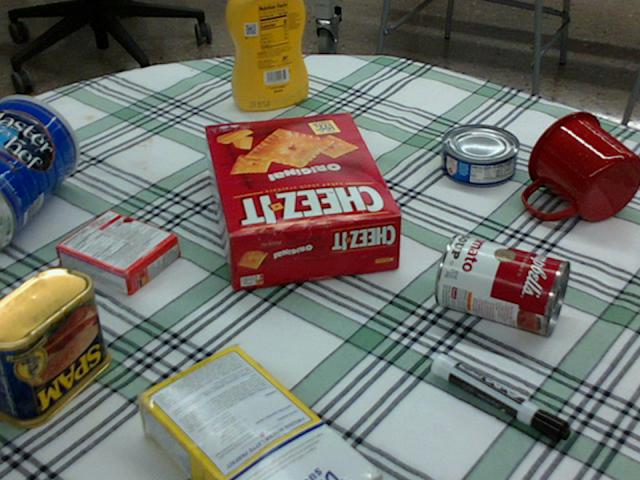cracker_box: (204, 111, 397, 287)
gelatin_box: (57, 208, 179, 296)
large_marker: (432, 353, 570, 445)
master_chef_can: (0, 95, 77, 252)
mug: (524, 111, 639, 222)
mustard_bottle: (226, 0, 307, 110)
potted_meat_can: (0, 265, 110, 425)
sugar_box: (131, 347, 379, 479)
tomato_soup_can: (433, 232, 569, 336)
tuna_fish_can: (441, 124, 520, 186)
